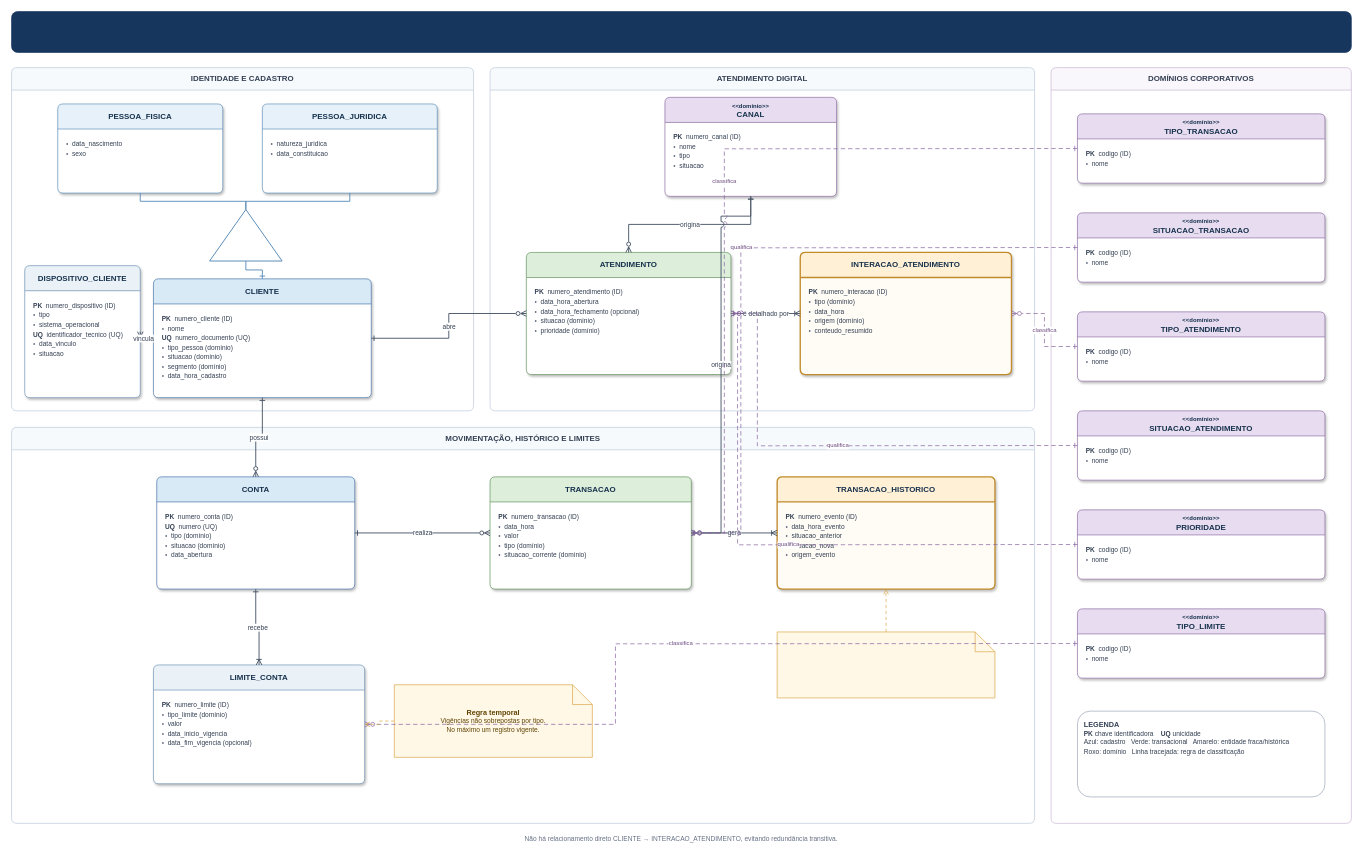
The diagram is 1363 pixels wide and 858 high, and some of its shapes have lost their labels. Each missing label, with the centre of its shape:
"Regra histórica Registros append-only. Alterações geram novo evento." belongs at (x=885, y=664).
"SIADL — Modelo Conceitual Proposto DER · notação James Martin (pé-de-galinha)" belongs at (x=681, y=31).
"É UM {total, exclusiva}" belongs at (x=245, y=235).
